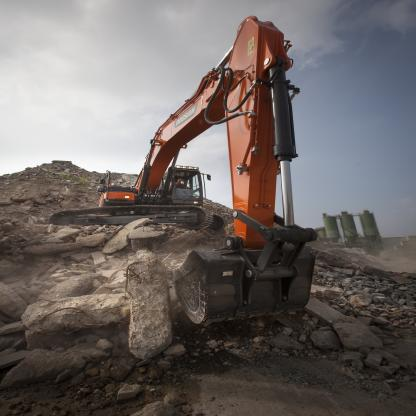excavator: (67, 14, 351, 327)
